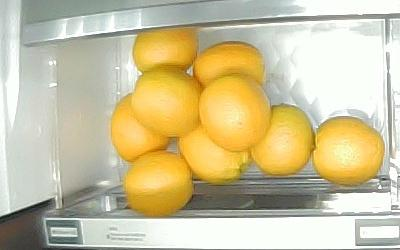orange: (199, 74, 270, 152), (311, 116, 385, 186), (131, 66, 202, 138), (251, 104, 316, 177), (125, 150, 194, 217), (178, 126, 252, 184), (111, 93, 173, 162), (193, 42, 266, 87), (133, 26, 199, 71)
